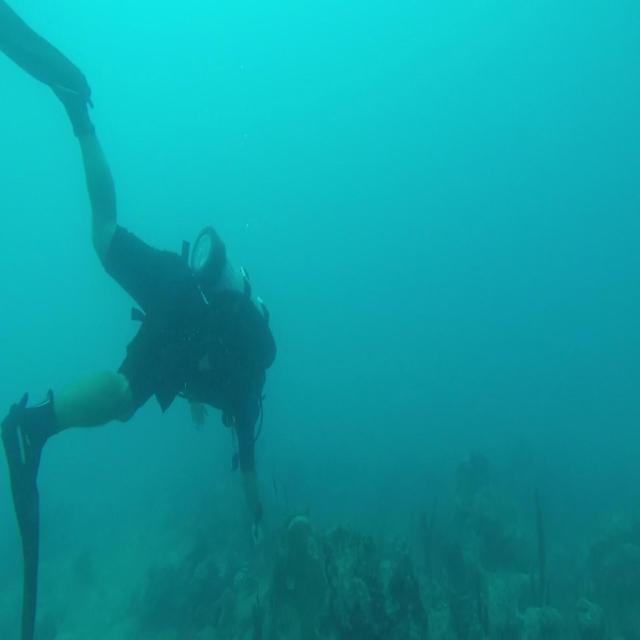human: (0, 2, 277, 637)
